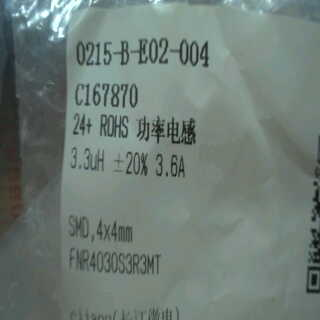3.3uH: (65, 138, 115, 183)
